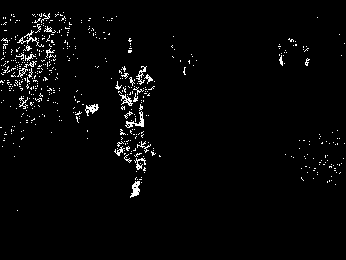person: (113, 111, 162, 198), (131, 63, 156, 127), (115, 63, 138, 119)
